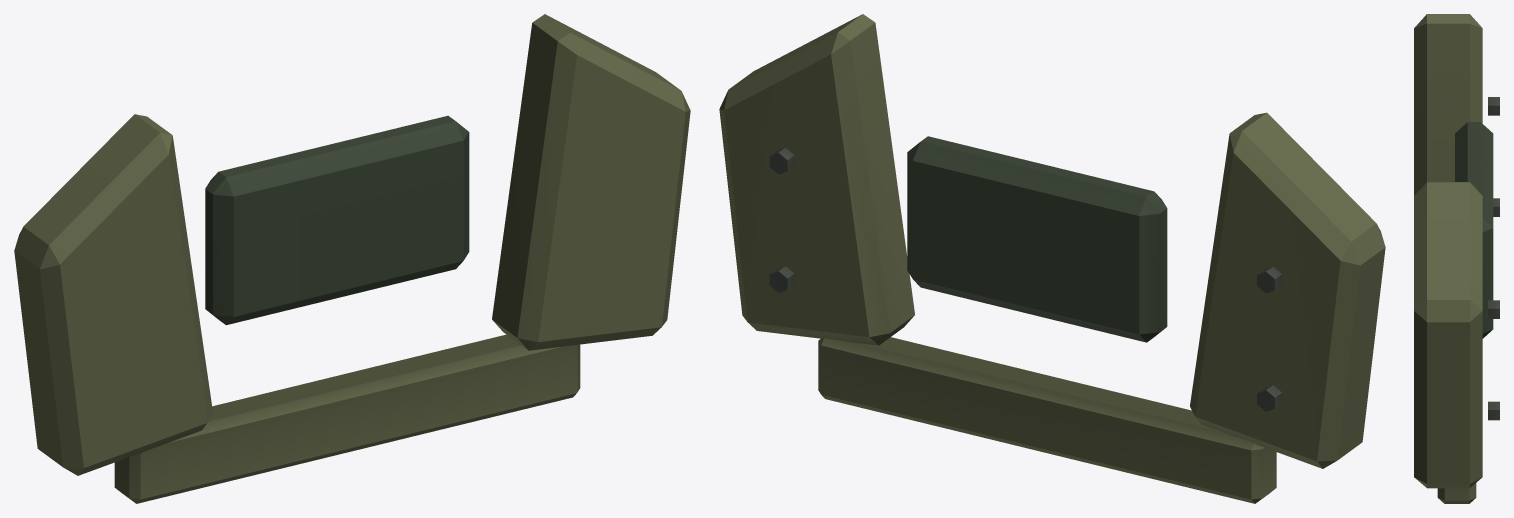
Rendered from torso_heavy.glb.
3 views of the same model, side by side, from view 1: azimuth 30°, elevation 25°; view 2: azimuth 150°, elevation 25°; view 3: azimuth 270°, elevation 25° (orthographic). The views are drawn at different scales.
Parts seen in each view (by area): view 1: Assault_cheek.001, Assault_cheek, Chest_stand_off, Lower_glacis_strip; view 2: Assault_cheek.001, Assault_cheek, Chest_stand_off, Lower_glacis_strip; view 3: Assault_cheek, Assault_cheek.001, Chest_stand_off, Lower_glacis_strip, Armour_bolt.003, Armour_bolt.002, Armour_bolt, Armour_bolt.001.
Part boxes in pixels (bbox=[...]): Assault_cheek.001: bbox=[14, 114, 212, 475]; Assault_cheek: bbox=[492, 14, 690, 350]; Chest_stand_off: bbox=[205, 115, 469, 325]; Lower_glacis_strip: bbox=[114, 334, 580, 503]; Assault_cheek.001: bbox=[1190, 112, 1385, 468]; Assault_cheek: bbox=[719, 14, 914, 345]; Chest_stand_off: bbox=[907, 136, 1167, 342]; Lower_glacis_strip: bbox=[818, 337, 1276, 503]; Assault_cheek: bbox=[1414, 182, 1482, 488]; Assault_cheek.001: bbox=[1414, 14, 1482, 195]; Chest_stand_off: bbox=[1455, 122, 1493, 338]; Lower_glacis_strip: bbox=[1437, 483, 1476, 503]; Armour_bolt.003: bbox=[1488, 401, 1499, 420]; Armour_bolt.002: bbox=[1488, 97, 1499, 115]; Armour_bolt: bbox=[1488, 300, 1499, 318]; Armour_bolt.001: bbox=[1493, 198, 1499, 216].
Size of the model in its own units: 0.7364 by 0.4061 by 0.1.
